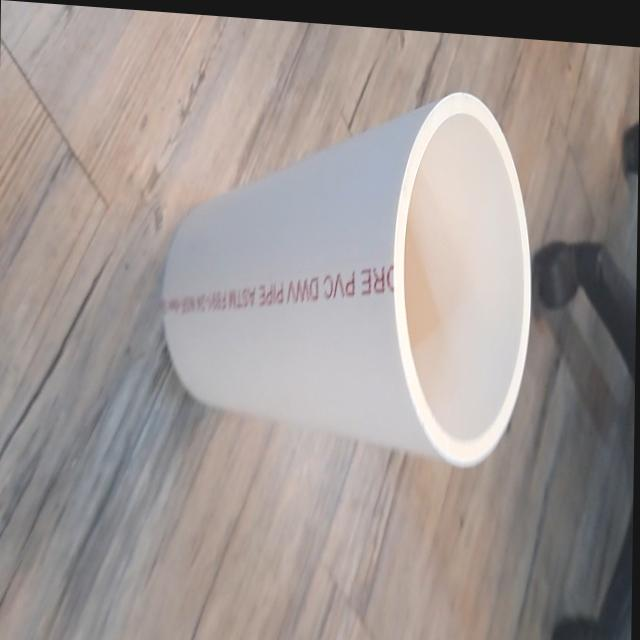CORAL: (152, 63, 540, 504)
